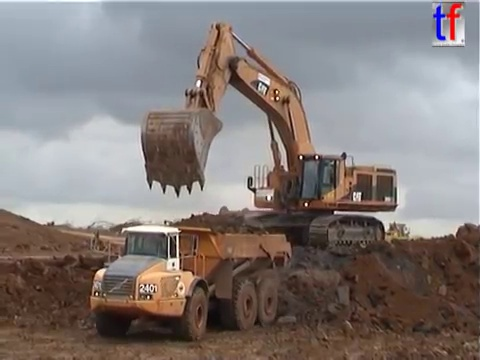excavator: (137, 18, 401, 258), (214, 193, 337, 240)
motor grader: (379, 220, 411, 245)
truck: (87, 222, 295, 343)
